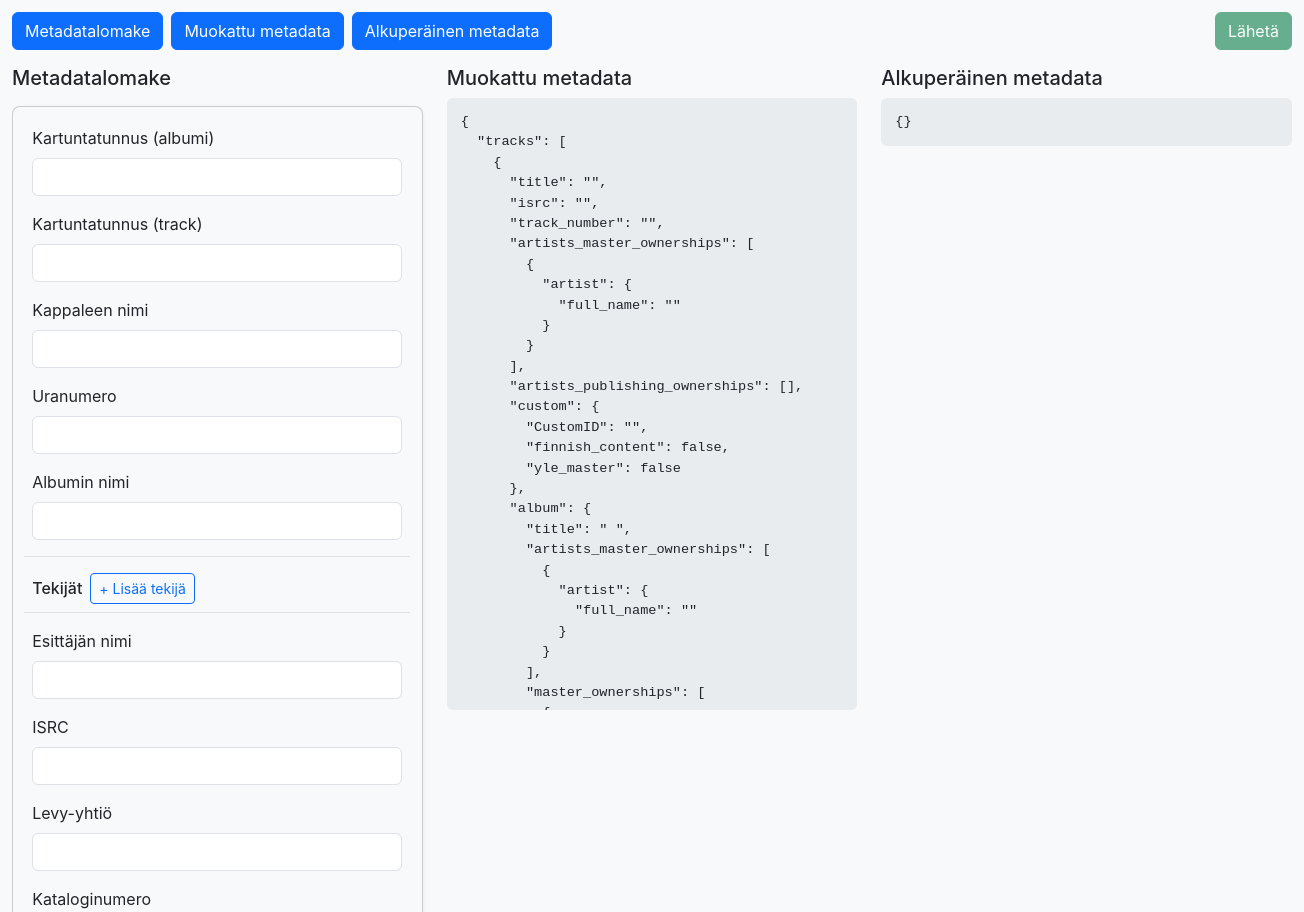
Test: toggles the metadata form independently of the metadata panels
Expected: the heading "Metadatalomake" is shown, [12,66,171,90]
Expected: the field labelled "Kappaleen nimi" is shown, [32,330,402,368]
Click the button "Metadatalomake": (88, 31) [12,12,163,50]
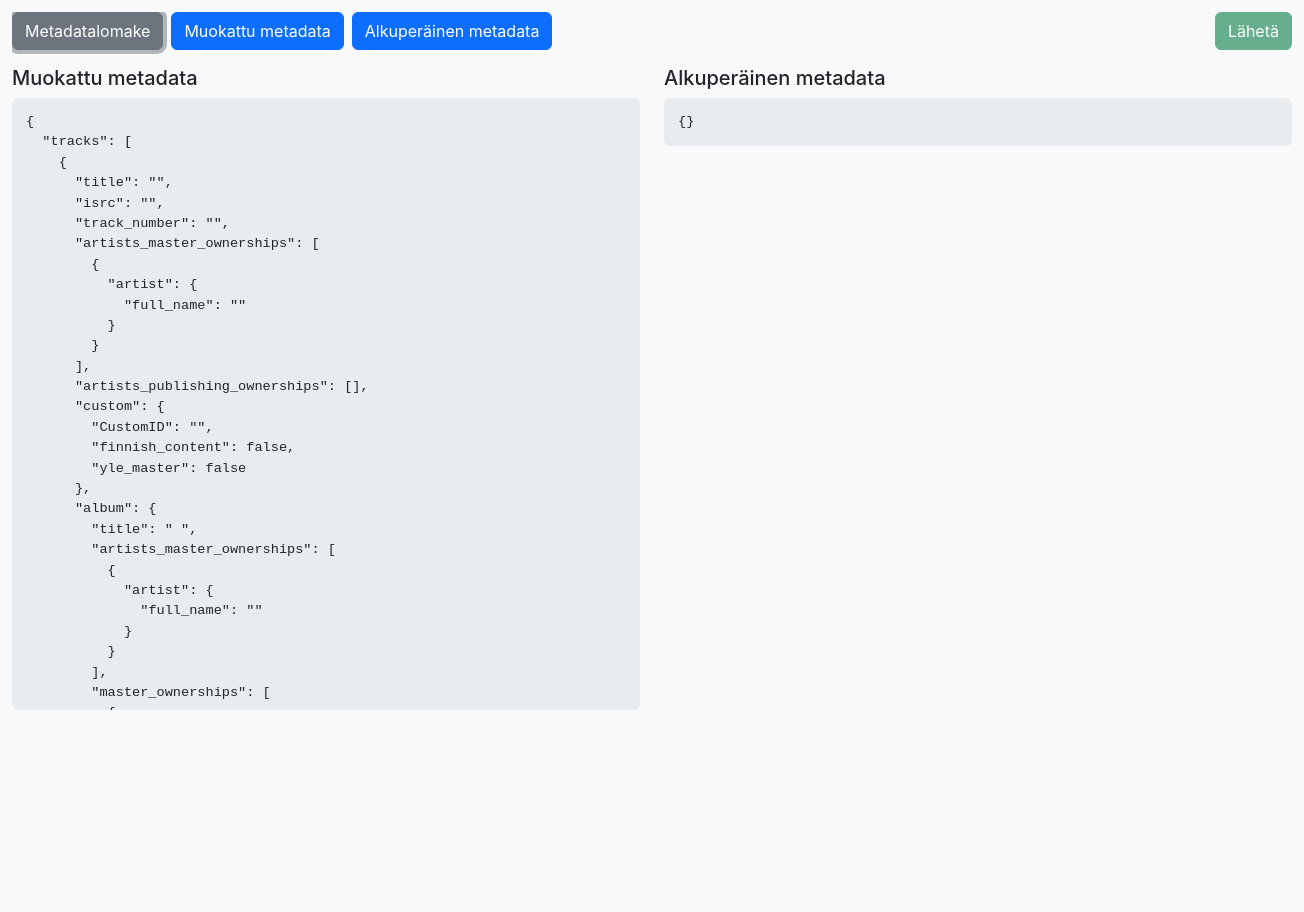
Expected: the heading "Muokattu metadata" is shown, [12,66,198,90]
Now the label labelled "Kappaleen nimi" is gone
Click the button "Metadatalomake": (88, 31) [12,12,163,50]
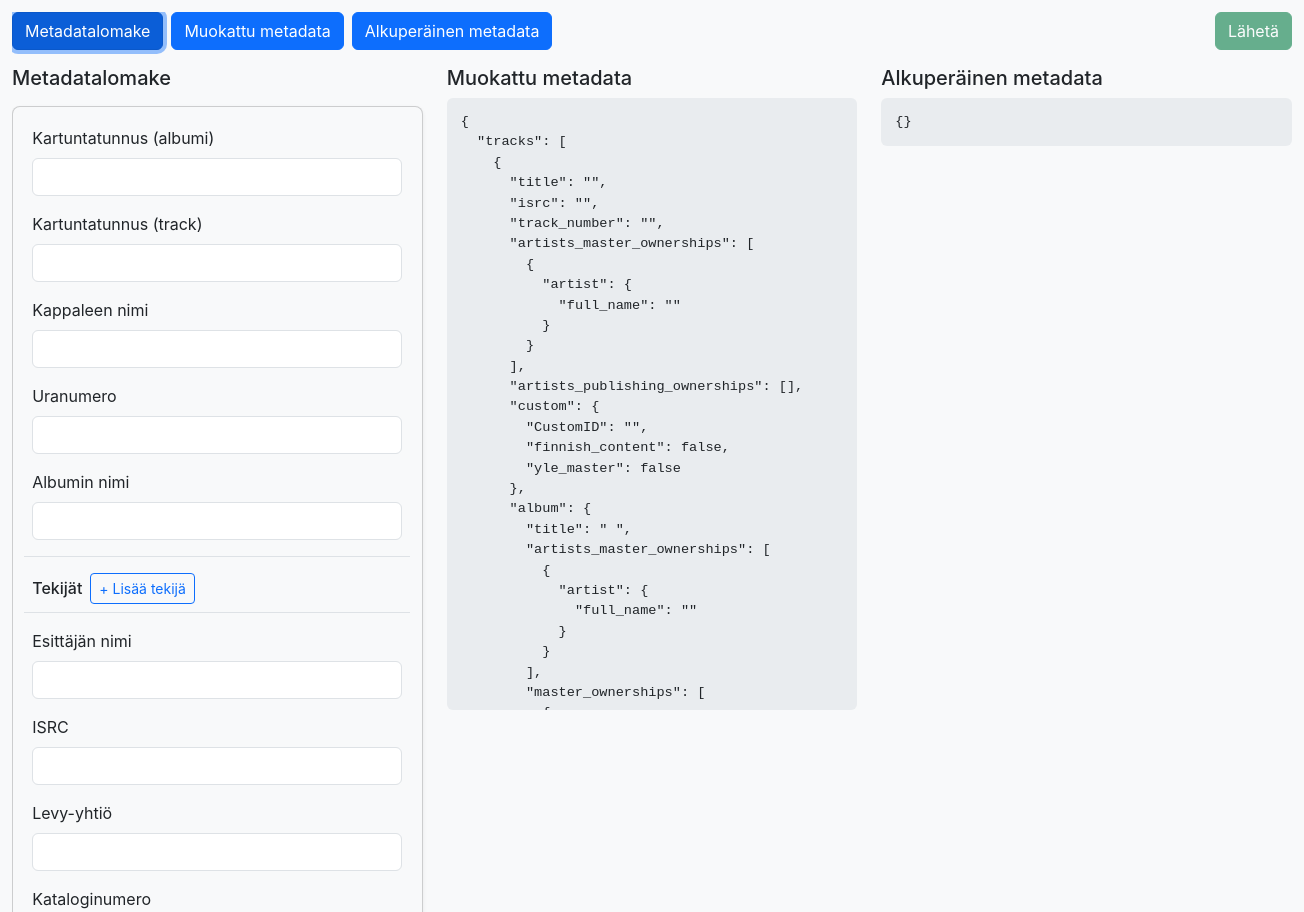
Now the field labelled "Kappaleen nimi" is shown, box [32,330,402,368]
